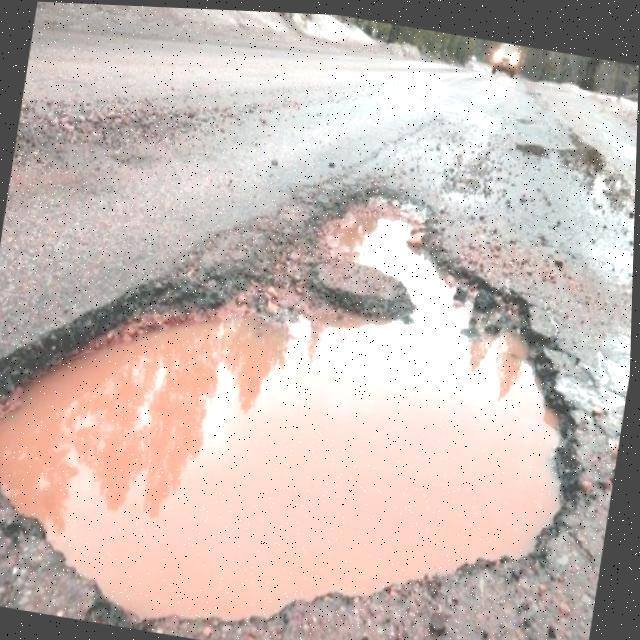pothole: (0, 117, 624, 640)
